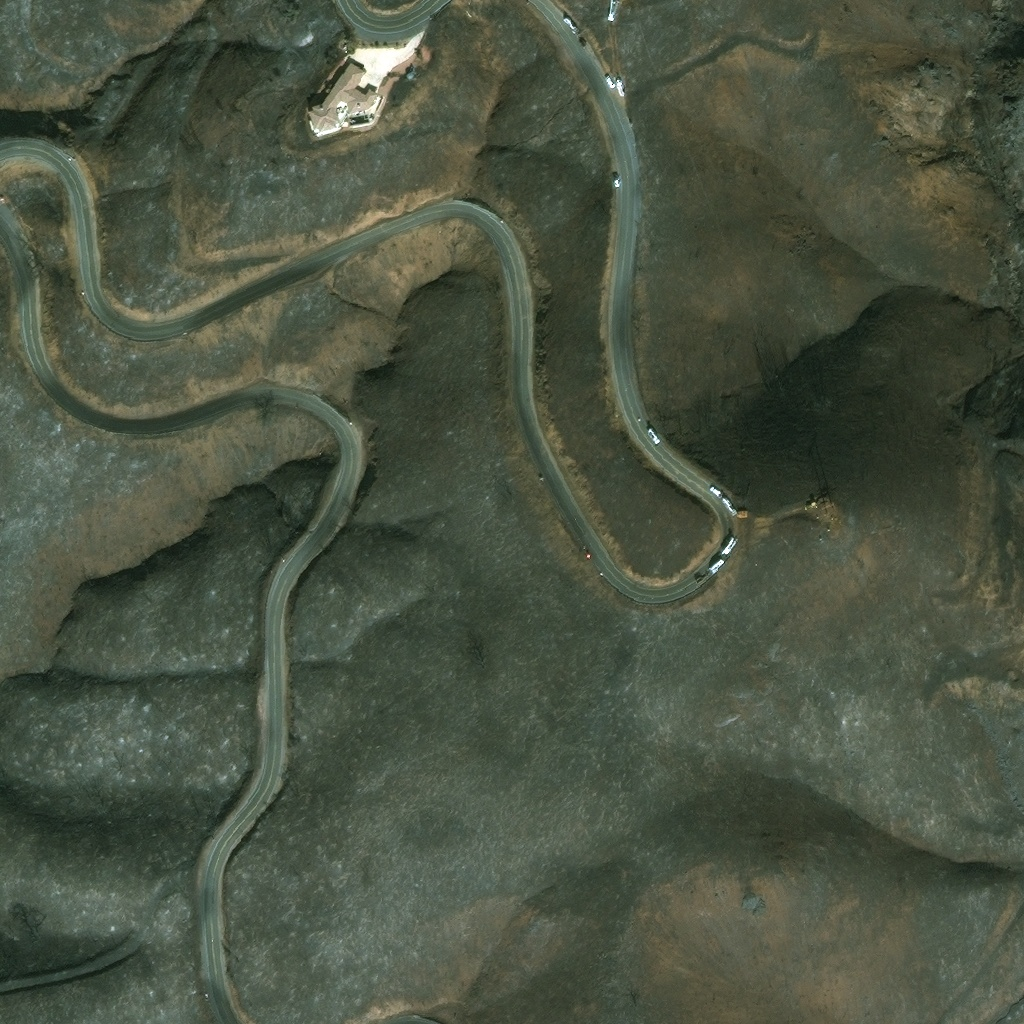0 no-damage: (307, 59, 378, 132), (405, 71, 413, 79)
